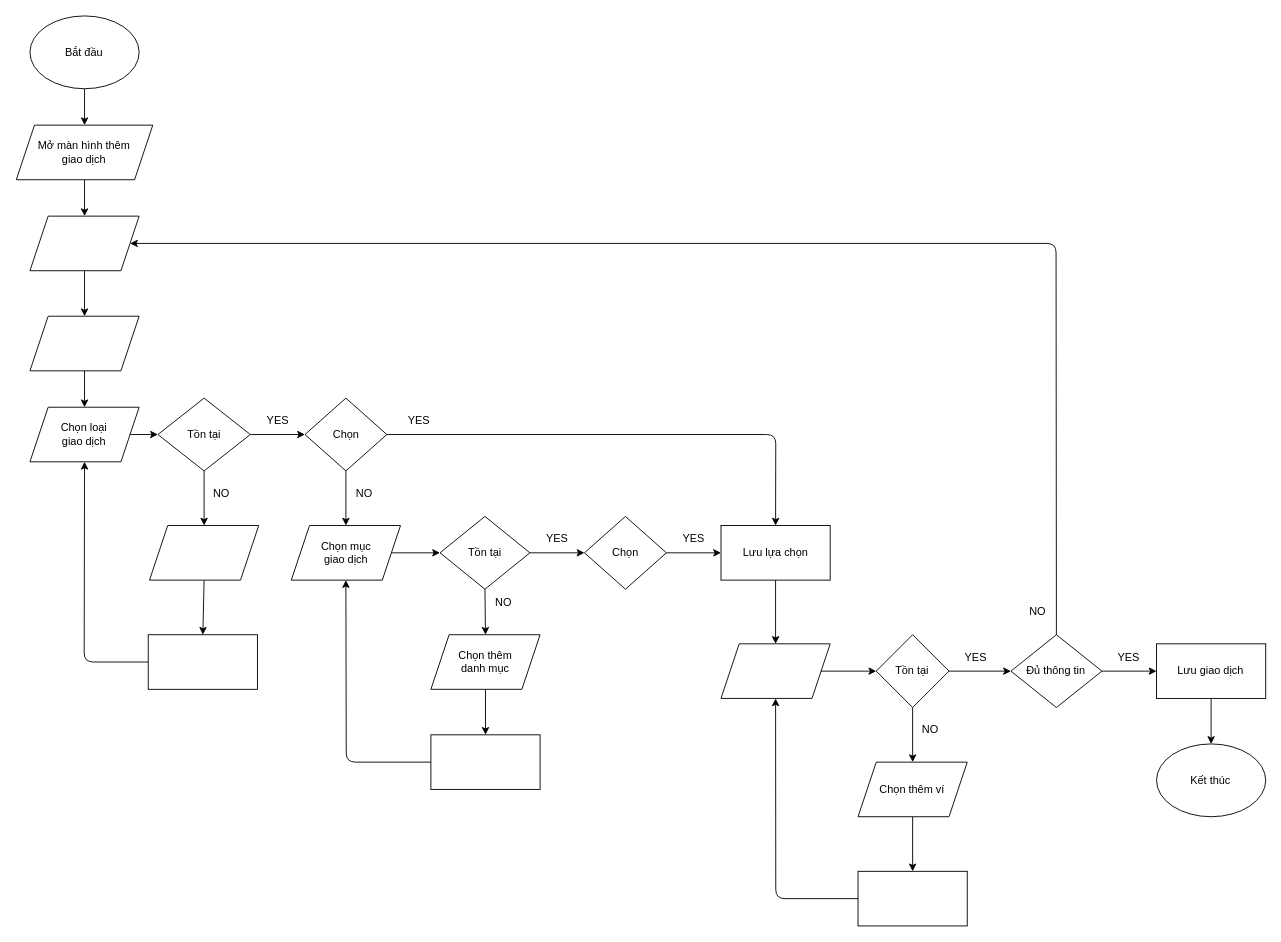
The diagram is 1281 pixels wide and 942 high, and some of its shapes have lost their labels. The shapes that lost their labels are listed below. From the top down, each one's centre as x and y in pixels, then its label:
At pixel 84 243: "Điền thông tin giao dịch".
At pixel 84 343: "Chọn kiểu giao dịch".
At pixel 204 552: "Chọn thêm loại giao dịch".
At pixel 202 661: "Thêm loại giao dịch".
At pixel 775 670: "Chọn ví".
At pixel 485 761: "Thêm danh mục giao dịch".
At pixel 912 898: "Thêm ví".
